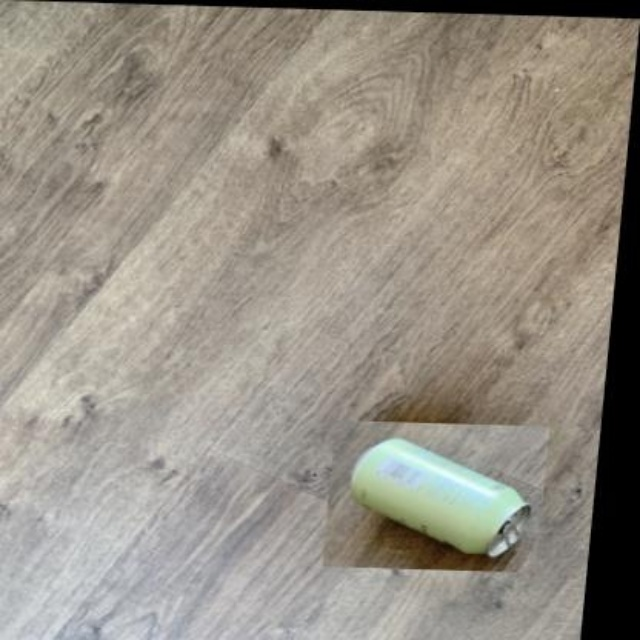trash: (351, 438, 529, 557)
